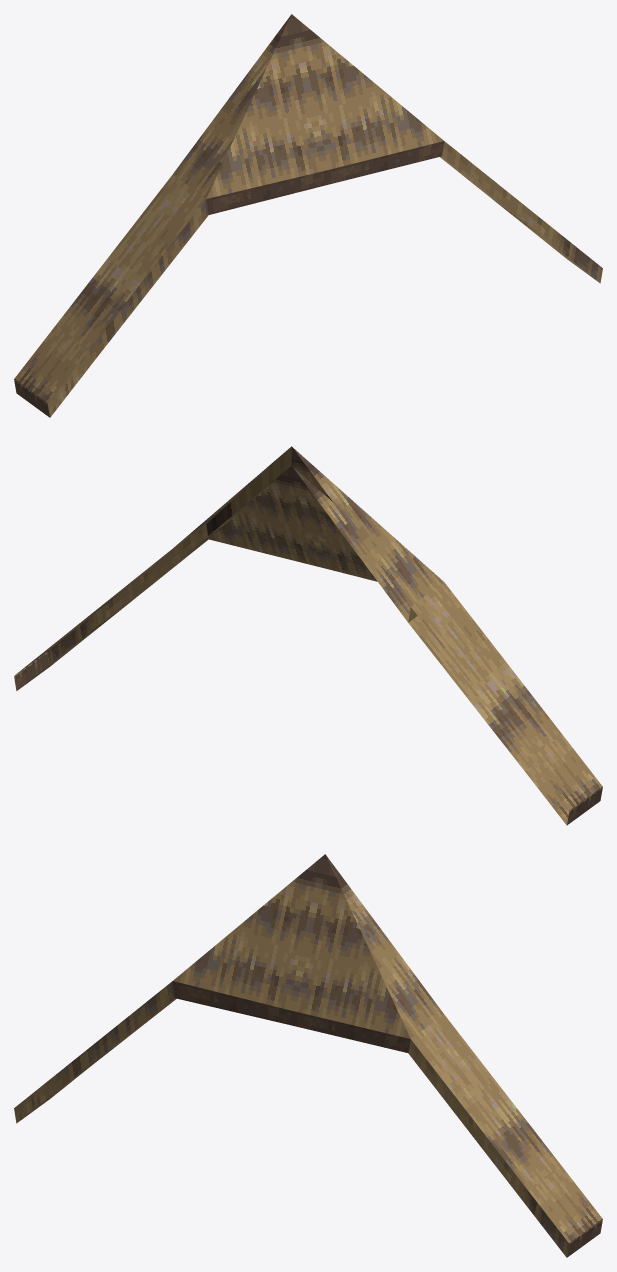
The model's file is roof_straw_end.glb.
3 views of the same model, one above another, from view 1: azimuth 30°, elevation 25°; view 2: azimuth 150°, elevation 25°; view 3: azimuth 330°, elevation 25° (orthographic).
Visible parts, largest first — view 1: roof_straw_end; view 2: roof_straw_end; view 3: roof_straw_end.
Part boxes in pixels (x1,y1,x2,y2): roof_straw_end: (14,14,602,417); roof_straw_end: (14,446,602,825); roof_straw_end: (14,854,602,1257).
Bounding box in the file's own units: 5.96 × 3.2 × 0.625.
1 material, 1 textured.
